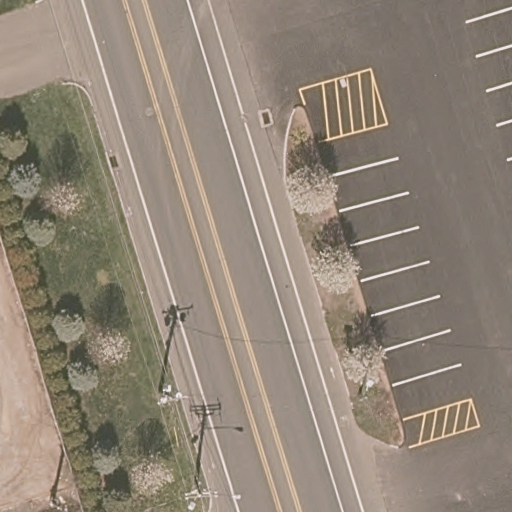DT: (179, 484, 220, 510), (155, 387, 195, 407)
